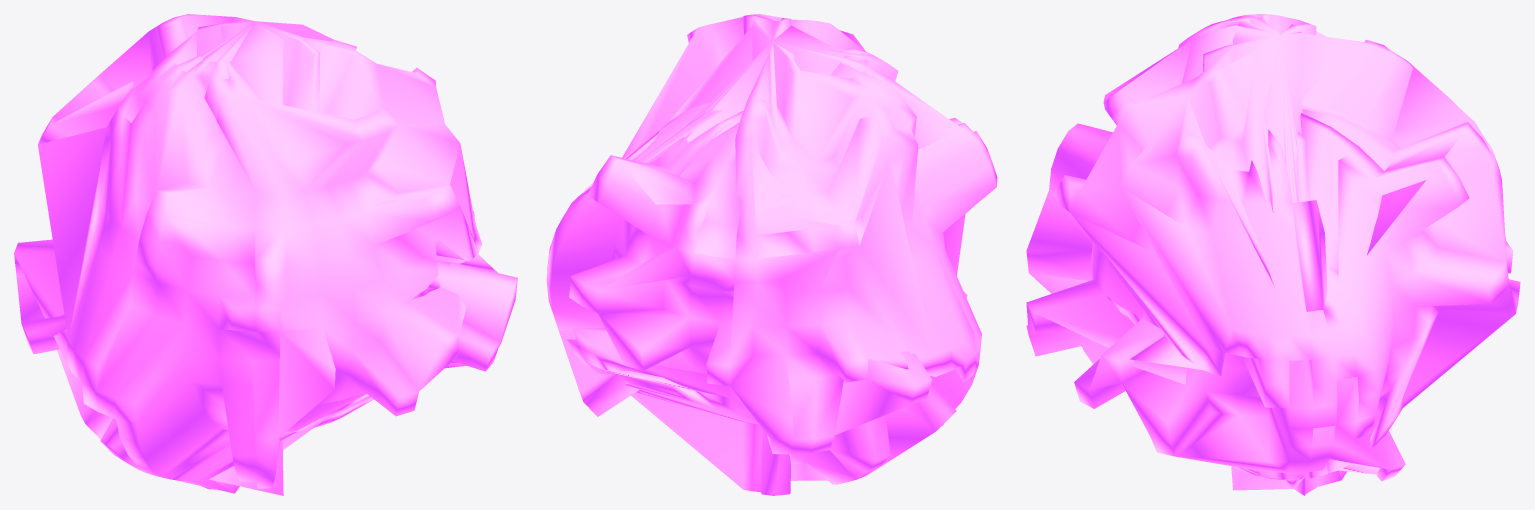
Rendered from particle_orb.fbx.
3 renders of one model, left to right at view 1: azimuth 30°, elevation 25°; view 2: azimuth 150°, elevation 25°; view 3: azimuth 270°, elevation 25°, orthographic. The views are drawn at different scales.
Visible parts, largest first — view 1: particle_object01; view 2: particle_object01; view 3: particle_object01.
Boxes of the visible parts, x1=… form: particle_object01: x1=14, y1=14, x2=517, y2=495; particle_object01: x1=546, y1=14, x2=997, y2=495; particle_object01: x1=1026, y1=14, x2=1520, y2=495.
Size of the model in its own units: 267 by 281 by 278.
